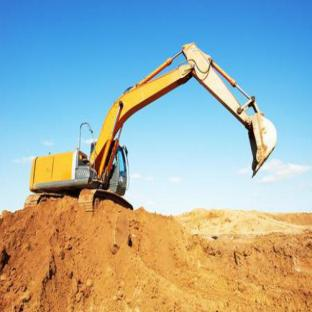ExcavationMachinery: (13, 43, 294, 231)
